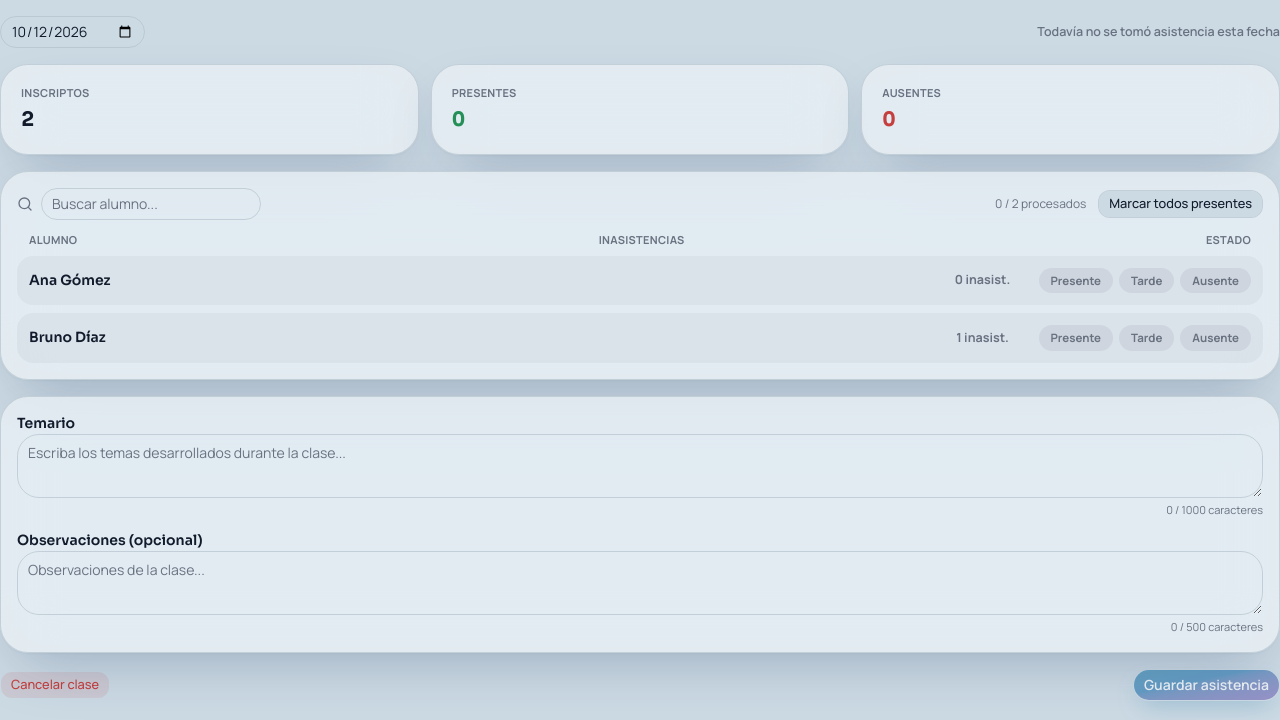
TabAsistencia › si la fecha es feriado lo dice en vez de un error genérico
The width and height of the screenshot is (1280, 720).
Expected: the text "Ana Gómez" is shown, [29,271,111,289]
Click the button "Presente" in the row of "Ana Gómez" at (1076, 281), box [1038,268,1113,293]
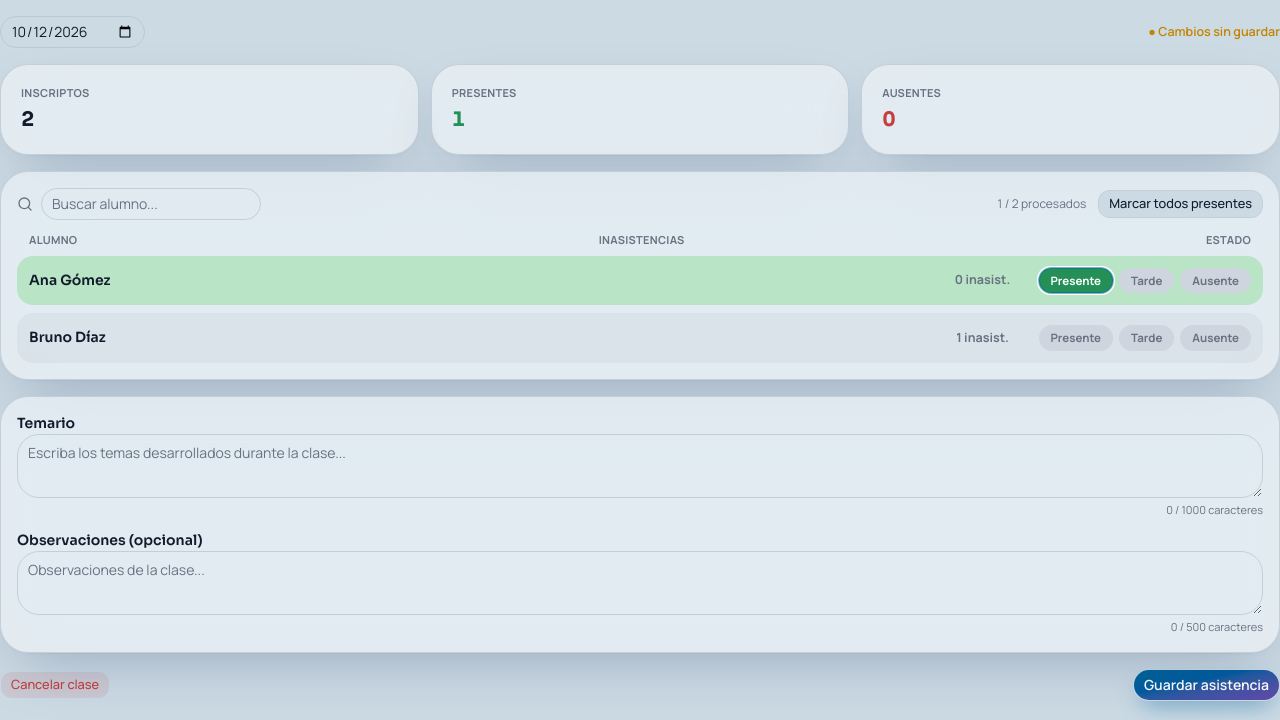
Click the button "Guardar asistencia" at (1206, 684), box [1133,668,1279,700]
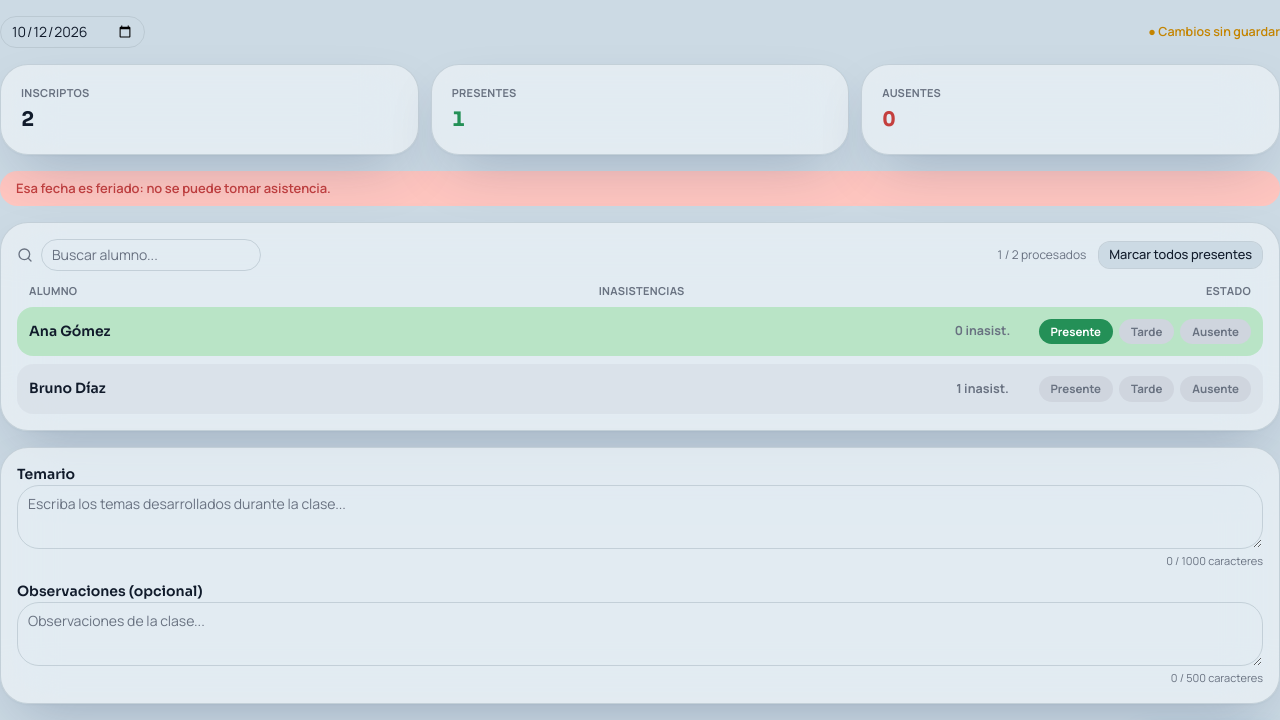
Expected: the text "Esa fecha es feriado: no se puede tomar asistencia." is shown, [0,170,1279,206]
